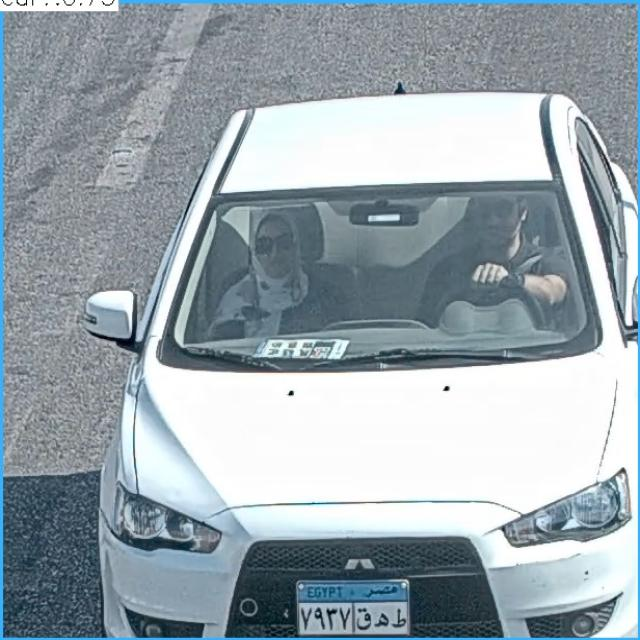windshield: (157, 194, 595, 355)
